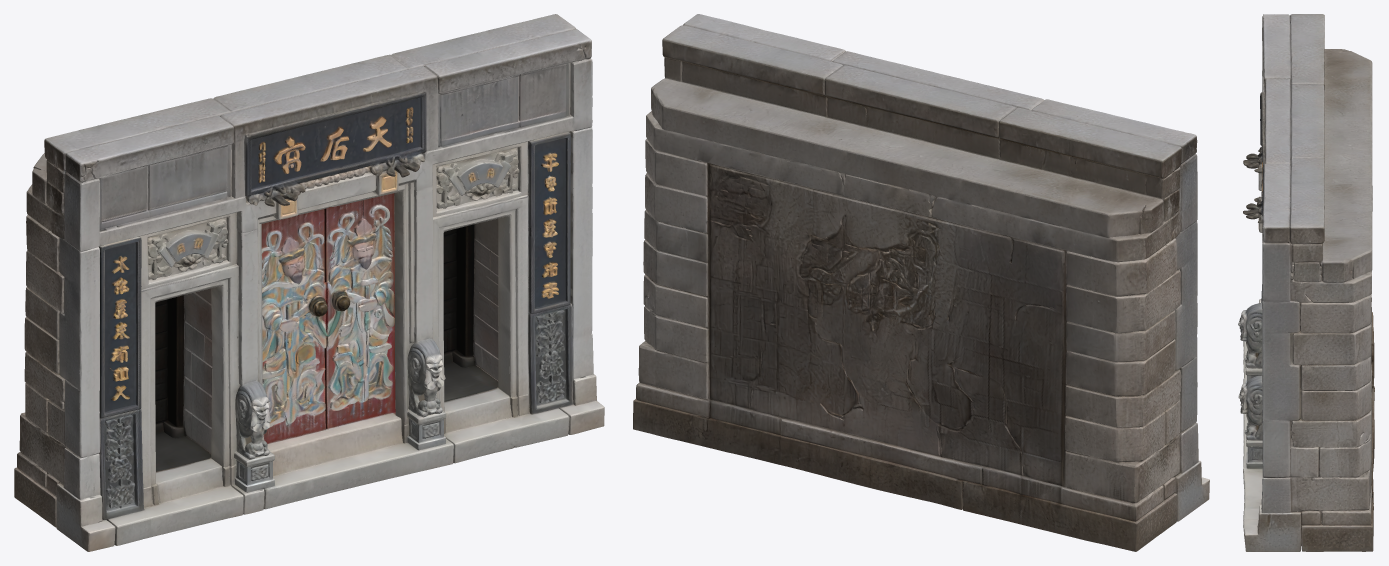
The model's file is doorway.glb.
The picture shows the model from 3 angles, left to right: view 1: azimuth 30°, elevation 25°; view 2: azimuth 150°, elevation 25°; view 3: azimuth 270°, elevation 25°; orthographic projection. The views are drawn at different scales.
Parts seen in each view (by area): view 1: model; view 2: model; view 3: model.
Part boxes in pixels (left/top/right/bottom): model: left=14, top=14, right=604, bottom=551; model: left=633, top=14, right=1209, bottom=551; model: left=1238, top=14, right=1374, bottom=551.
Size of the model in its own units: 1.9 by 1.33 by 0.5093.
1 material, 1 textured.
